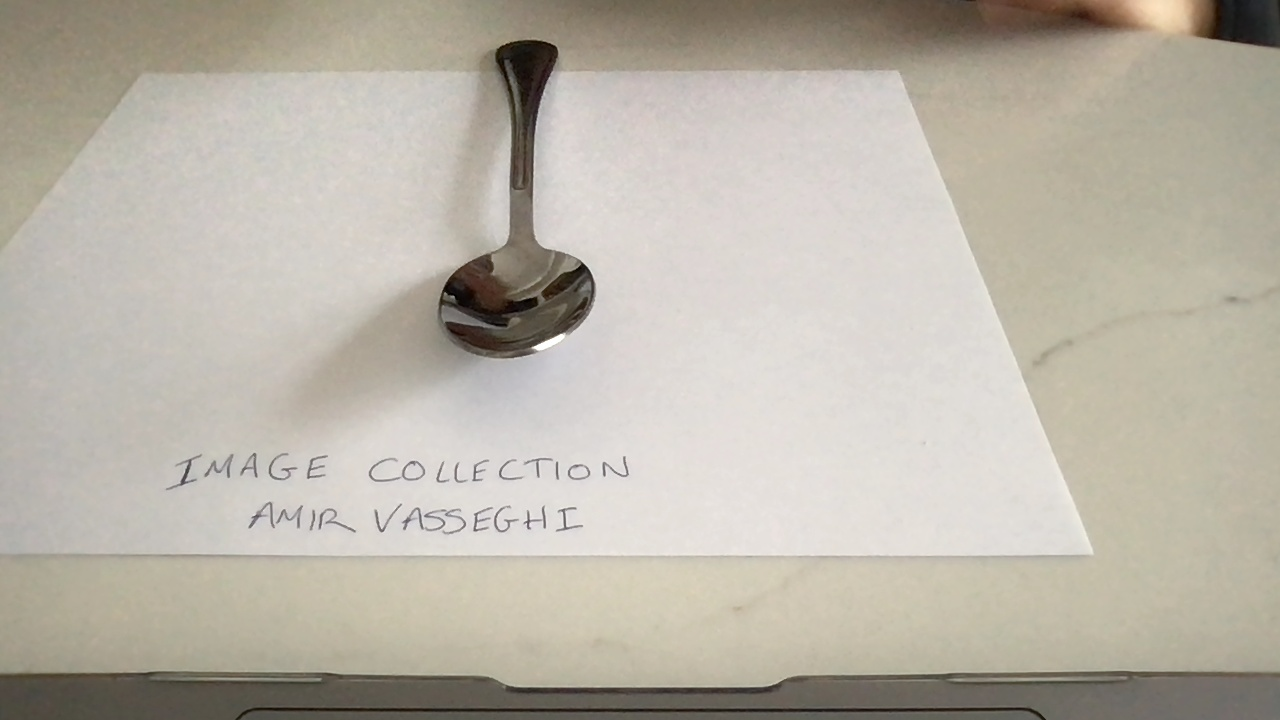spoon: (433, 39, 598, 360)
